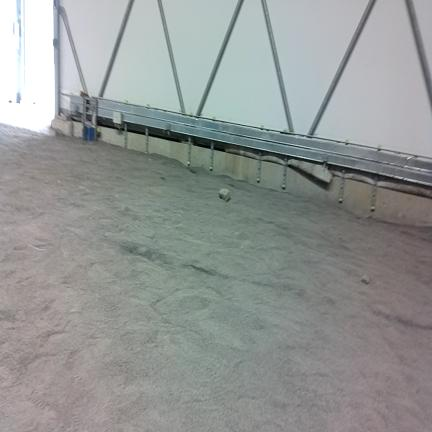Rock: (51, 116, 73, 135), (73, 122, 82, 138), (219, 189, 230, 201), (361, 275, 370, 284)
